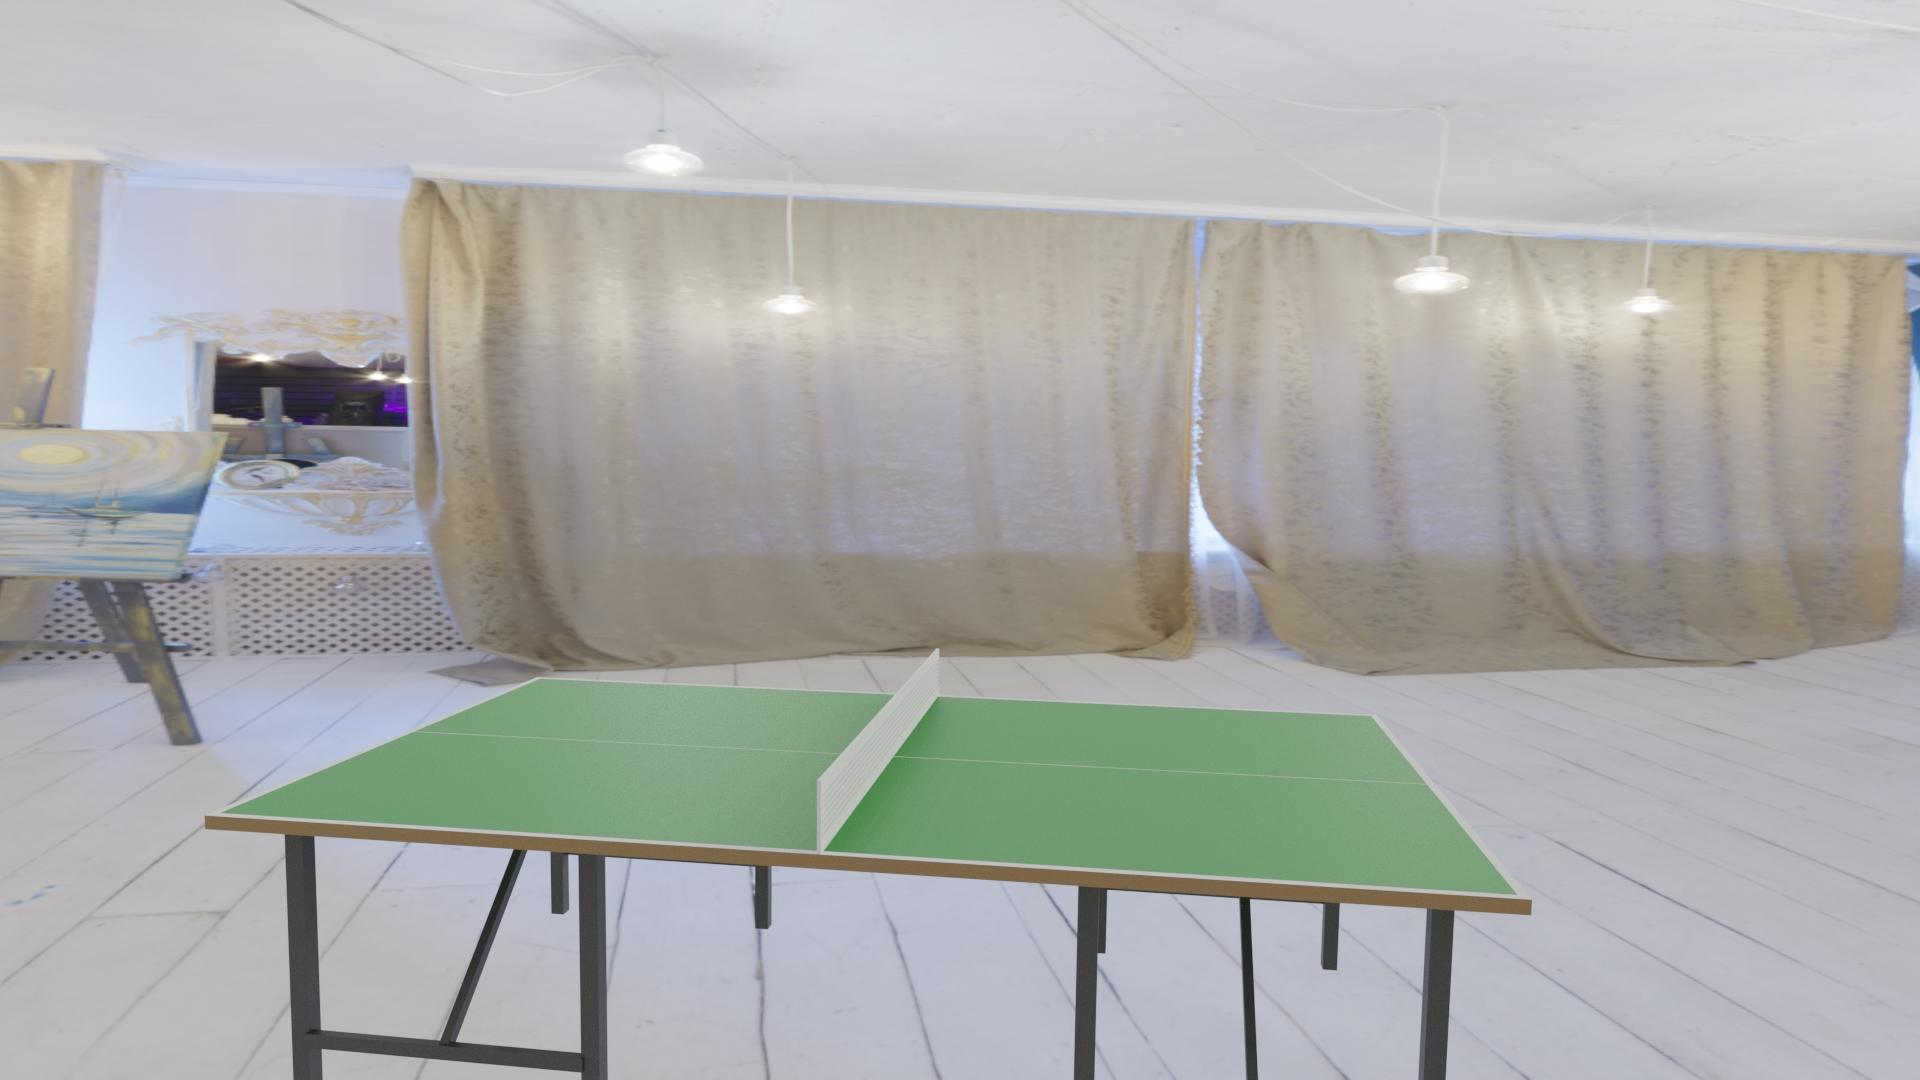table: (219, 679, 1518, 895)
